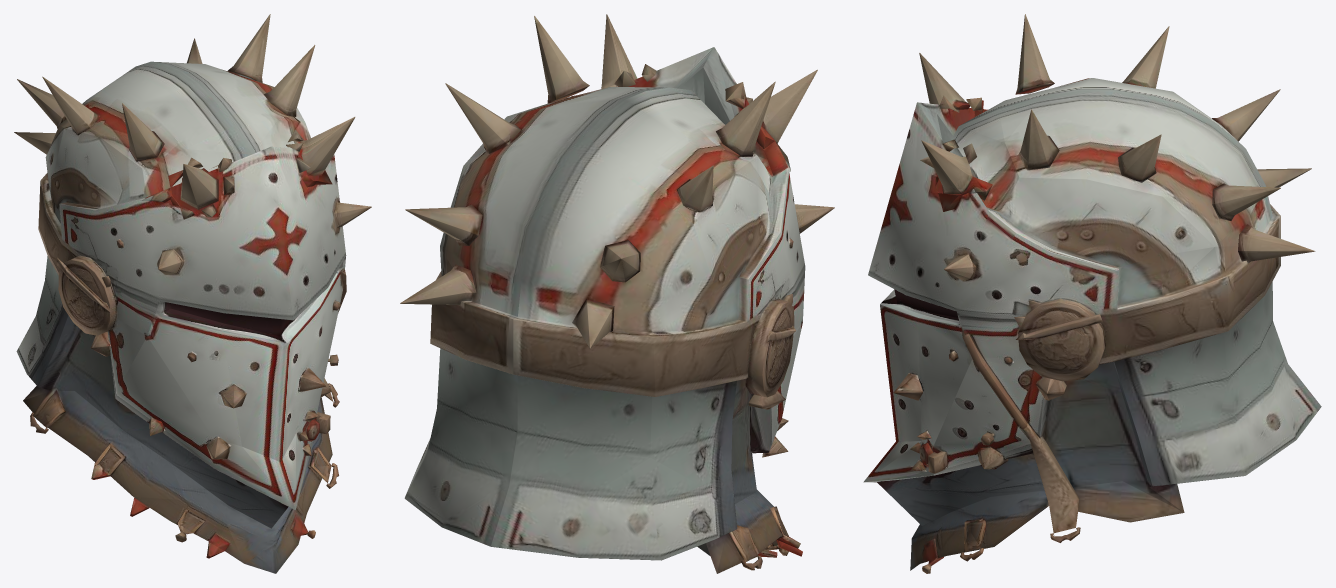
The model's file is legionknight.glb.
3 renders of one model, left to right at view 1: azimuth 30°, elevation 25°; view 2: azimuth 150°, elevation 25°; view 3: azimuth 270°, elevation 25°, orthographic. The views are drawn at different scales.
Parts seen in each view (by area): view 1: 0.002; view 2: 0.002; view 3: 0.002.
Boxes of the visible parts, x1,y1,x2,y2 form: 0.002: (14,14,371,573); 0.002: (400,14,834,573); 0.002: (863,14,1321,573).
Size of the model in its own units: 1.2 by 1.96 by 1.59.
Materials: 1 (1 with a texture image).
